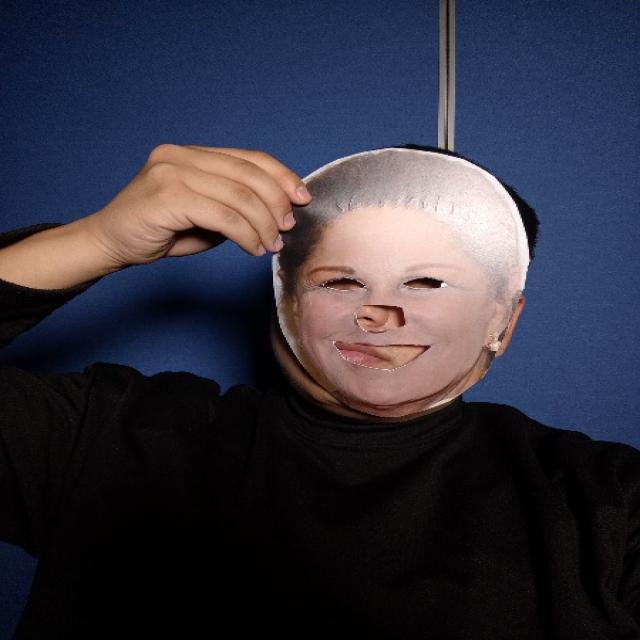mask: (270, 148, 526, 413)
